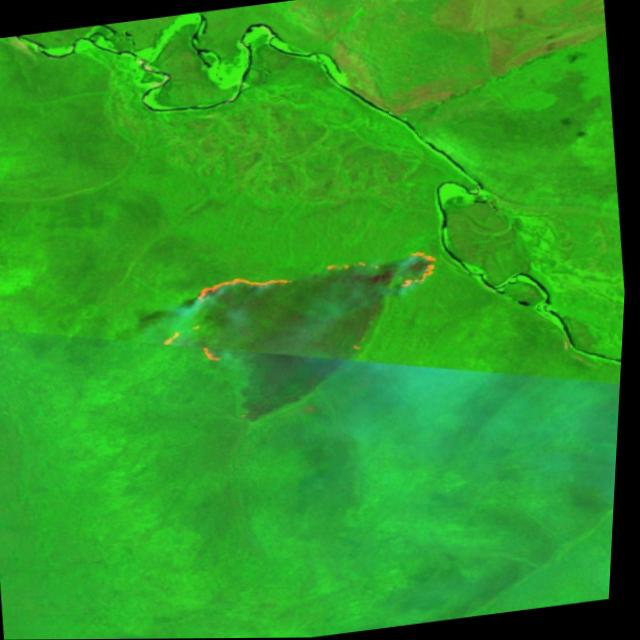fire: (151, 241, 455, 377)
